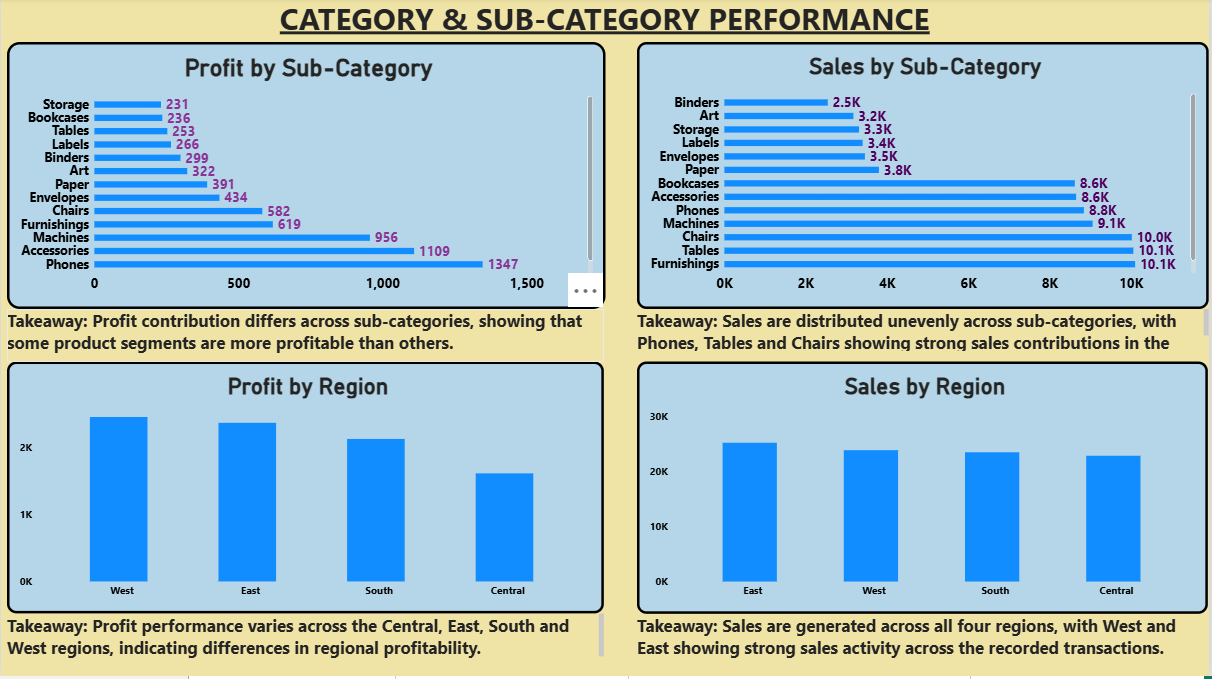

The page's visual inventory and layout, read from the dashboard file:
{"tool":"powerbi","page":{"name":"Category & Sub-Category Analysis ","canvas":[1920,1080],"ordinal":2},"visuals":[{"type":"clusteredBarChart","title":" Profit by Sub-Category","fields":{"Category":["Superstore Data.Sub-Category"],"Y":["Sum(Superstore Data.Profit)"]},"box":[9.5,71.6,952,424.7],"z":0},{"type":"textbox","box":[0,0,1920.7,100.2],"z":1000},{"type":"clusteredBarChart","title":"Sales by Sub-Category","fields":{"Category":["Superstore Data.Sub-Category"],"Y":["Sum(Superstore Data.Sales)"]},"box":[1011.6,71.6,909,424.7],"z":2000},{"type":"clusteredColumnChart","title":"Profit by Region","fields":{"Category":["Superstore Data.Region"],"Y":["Sum(Superstore Data.Profit)"]},"box":[9.5,579.8,949.6,400.8],"z":3000},{"type":"textbox","box":[9.5,496.3,949.6,83.5],"z":4000},{"type":"textbox","box":[1011.6,496.3,909,66.8],"z":5000},{"type":"textbox","box":[9.5,980.6,949.6,69.2],"z":6000},{"type":"clusteredColumnChart","title":" Sales by Region","fields":{"Category":["Superstore Data.Region"],"Y":["Sum(Superstore Data.Sales)"]},"box":[1012,580,908,401],"z":7000},{"type":"textbox","box":[1011.6,980.6,909,100.2],"z":8000}]}

Visuals, with their boxes in screenshot pixels (x1, y1, x2, y2), scaled from the page's 1920x1080 canvas onto the 1212x679 screenshot:
" Profit by Sub-Category" clusteredBarChart: [left=6, top=45, right=607, bottom=312]
textbox: [left=0, top=0, right=1211, bottom=63]
"Sales by Sub-Category" clusteredBarChart: [left=639, top=45, right=1211, bottom=312]
"Profit by Region" clusteredColumnChart: [left=6, top=365, right=605, bottom=617]
textbox: [left=6, top=312, right=605, bottom=365]
textbox: [left=639, top=312, right=1211, bottom=354]
textbox: [left=6, top=617, right=605, bottom=660]
" Sales by Region" clusteredColumnChart: [left=639, top=365, right=1211, bottom=617]
textbox: [left=639, top=617, right=1211, bottom=678]
